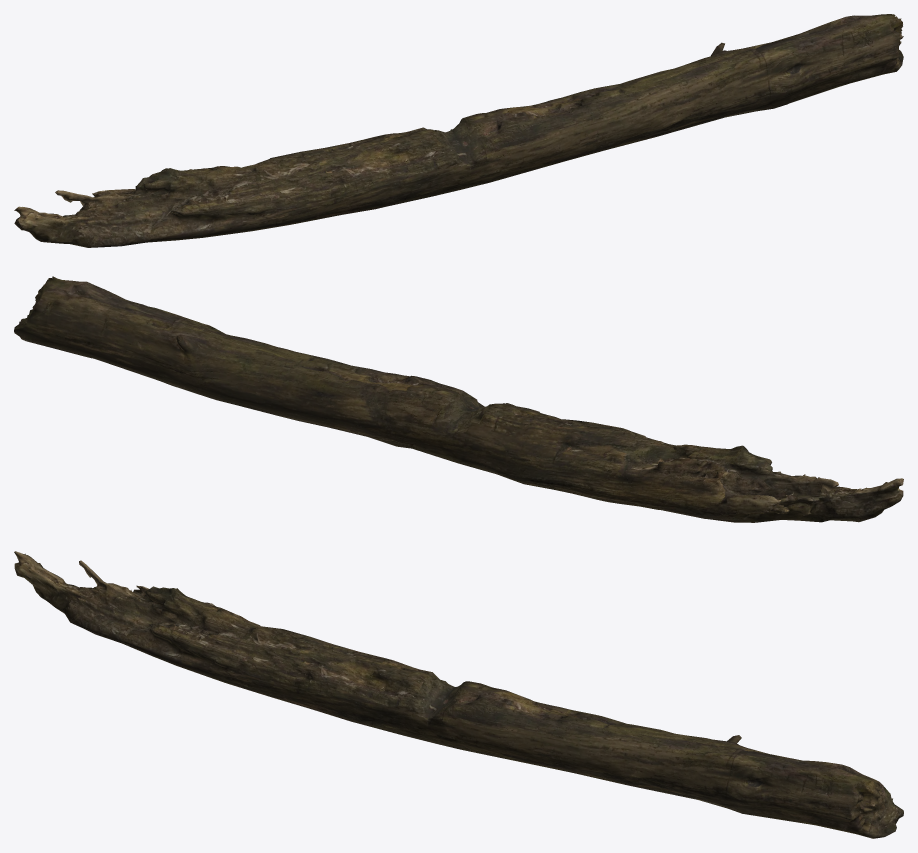
File: dead_tree_trunk.glb
3 renders of one model, top to bottom at view 1: azimuth 30°, elevation 25°; view 2: azimuth 150°, elevation 25°; view 3: azimuth 330°, elevation 25°, orthographic.
Parts seen in each view (by area): view 1: dead_tree_trunk; view 2: dead_tree_trunk; view 3: dead_tree_trunk.
Boxes of the visible parts, x1,y1,x2,y2 form: dead_tree_trunk: (14, 14, 903, 247); dead_tree_trunk: (14, 276, 903, 522); dead_tree_trunk: (14, 551, 903, 838).
Bounding box in the file's own units: 3.05 × 0.2898 × 0.2775.
1 material, 1 textured.
